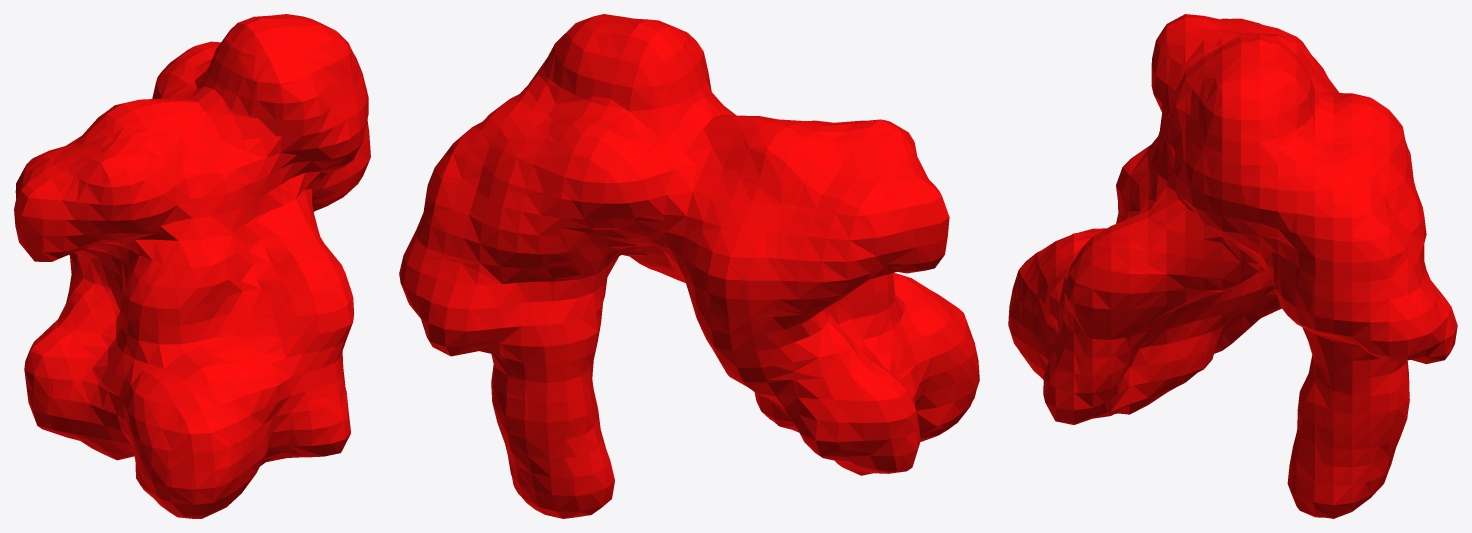
File: oppB_coarse.dae
The picture shows the model from 3 angles, left to right: view 1: azimuth 30°, elevation 25°; view 2: azimuth 150°, elevation 25°; view 3: azimuth 270°, elevation 25°; orthographic projection. The views are drawn at different scales.
Parts seen in each view (by area): view 1: oppB; view 2: oppB; view 3: oppB.
Part boxes in pixels (bbox=[...]): oppB: bbox=[14, 14, 370, 518]; oppB: bbox=[399, 14, 979, 518]; oppB: bbox=[1008, 14, 1457, 518].
Bounding box in the file's own units: 66.91 × 66.07 × 59.48.
